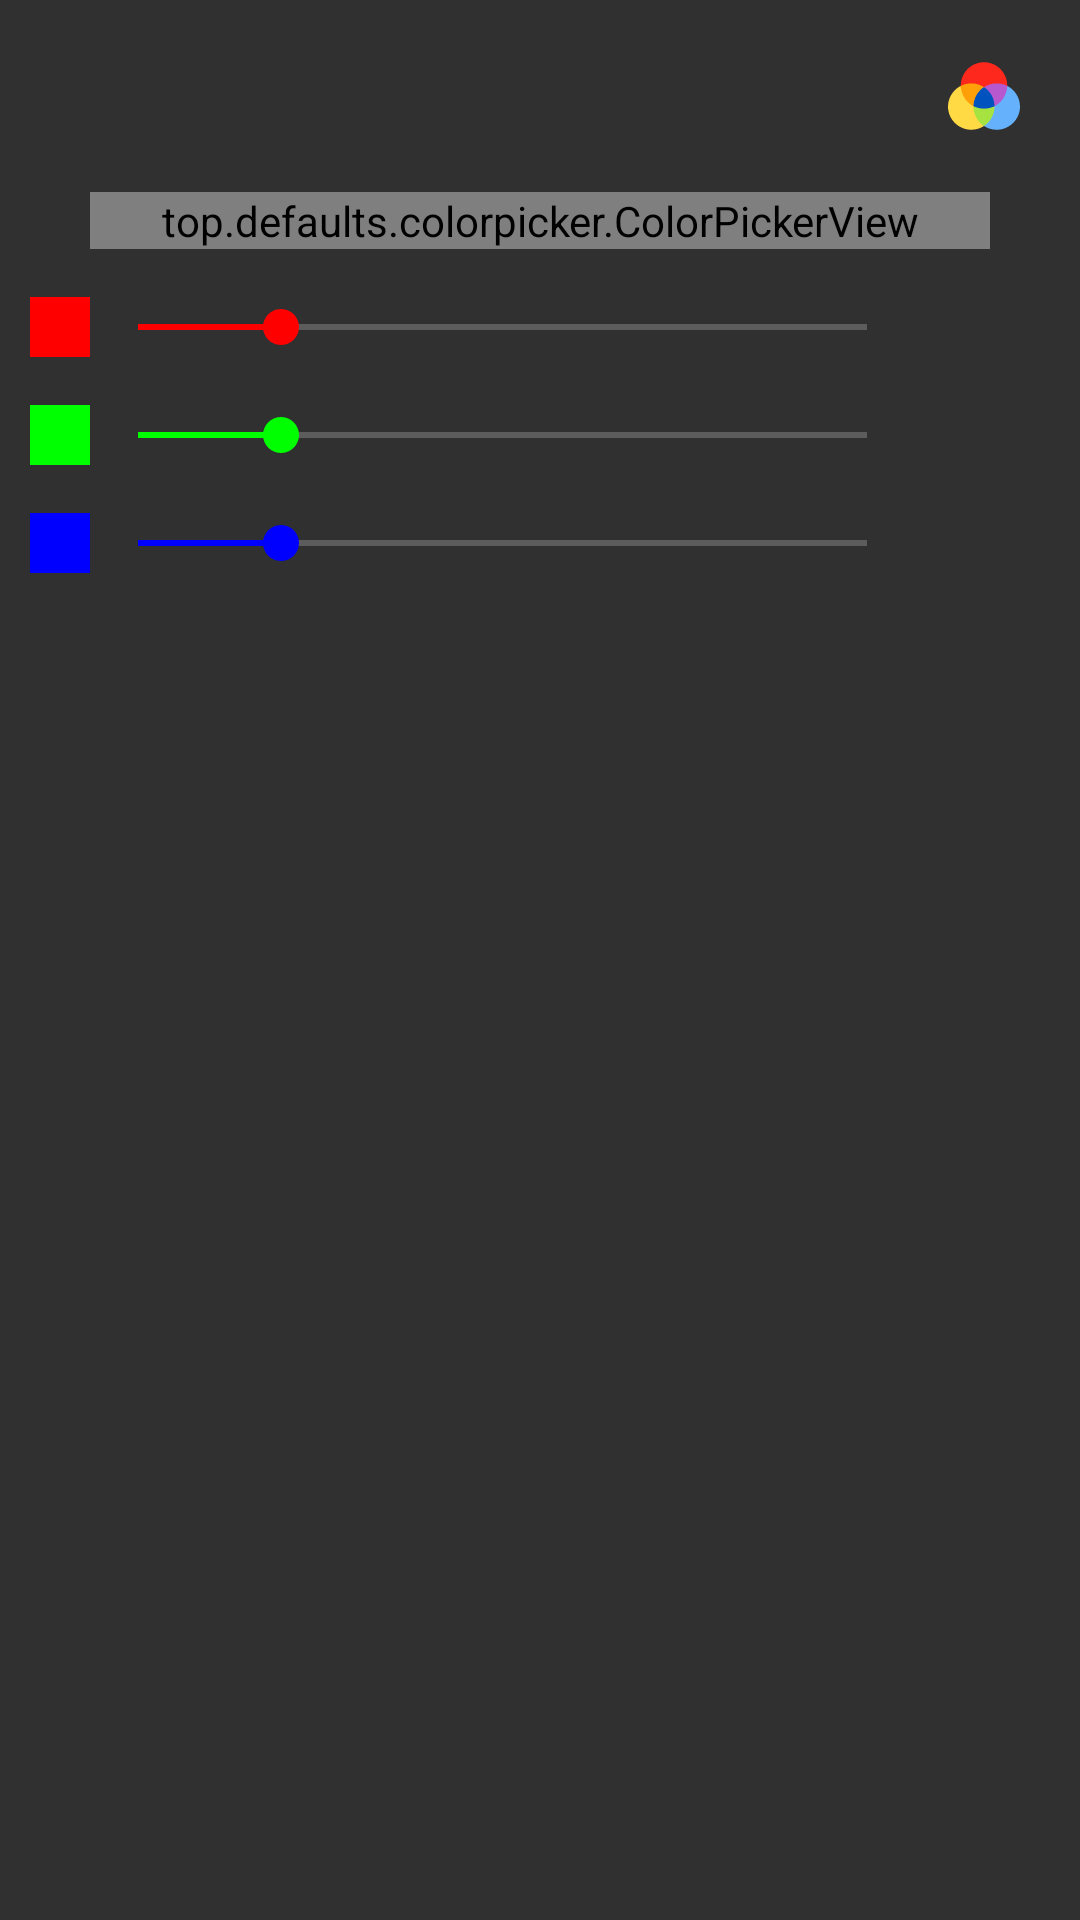

Icon click points for this 1080px x 1920px phone screenshot, format point (x, y):
Choose a color: point (984, 96)
